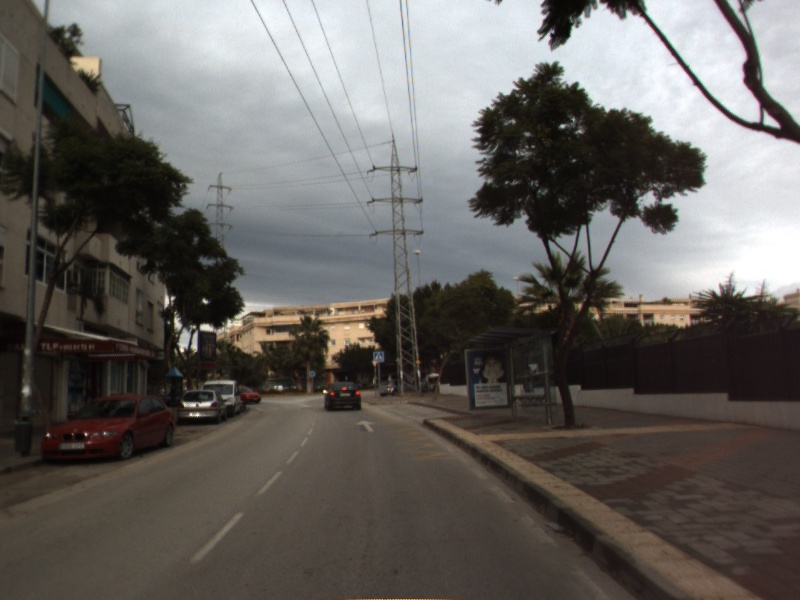STRAIGHT: (353, 418, 379, 434)
